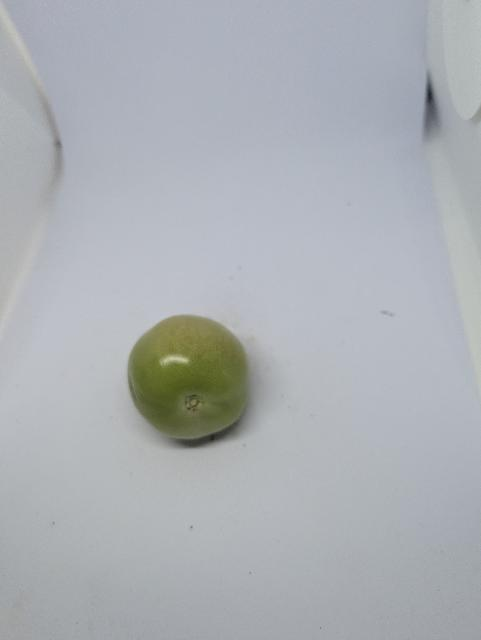green: (123, 311, 254, 442)
